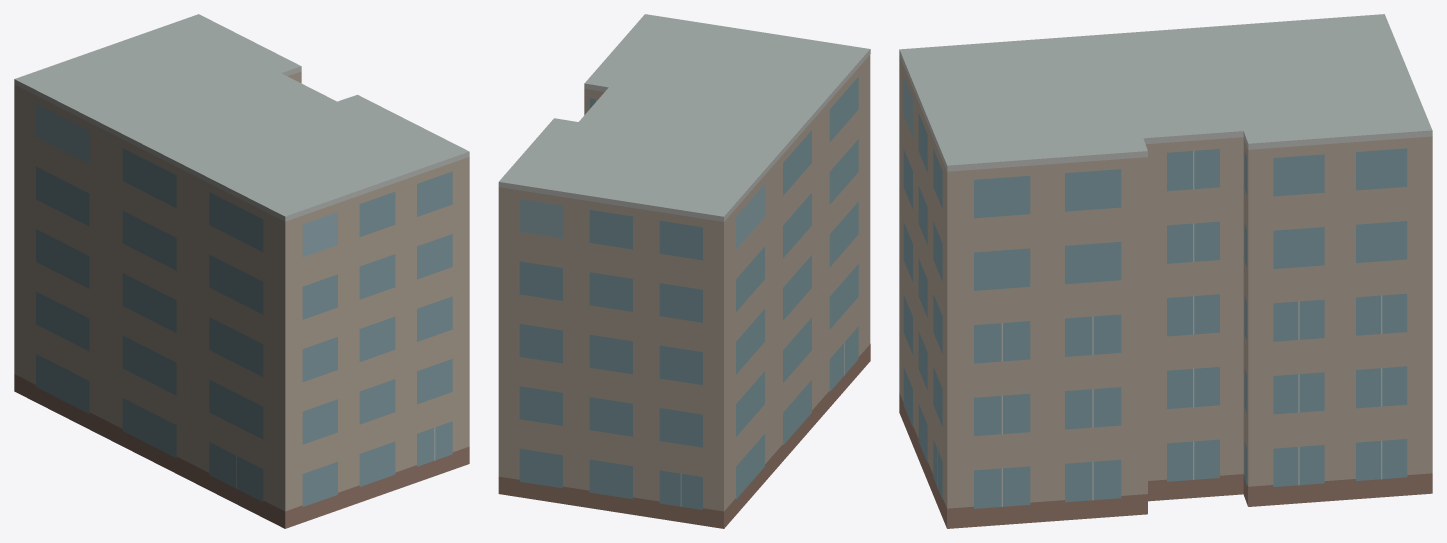
File: survey-upis-32610102.glb
3 views of the same model, side by side, from view 1: azimuth 30°, elevation 25°; view 2: azimuth 150°, elevation 25°; view 3: azimuth 270°, elevation 25° (orthographic). The views are drawn at different scales.
Parts seen in each view (by area): view 1: survey-upis-32610102.tmp; view 2: survey-upis-32610102.tmp; view 3: survey-upis-32610102.tmp.
Part boxes in pixels (x1,y1,x2,y2): survey-upis-32610102.tmp: [14, 14, 469, 528]; survey-upis-32610102.tmp: [498, 14, 870, 528]; survey-upis-32610102.tmp: [899, 14, 1432, 528].
Size of the model in its own units: 13.08 by 14.6 by 19.43.
